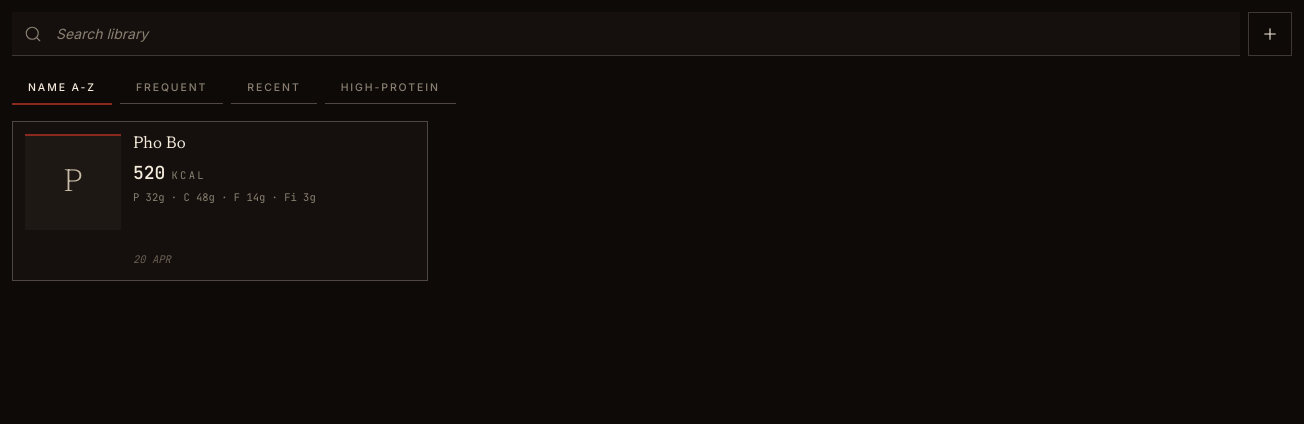
it: F-TASK-4.2-I2-UI-ROUNDTRIP — LibraryTab DOM round-trip from seeded store › clicking a row toggles selection AND mounts the quantity input at default 1
Click the option with test id "library-card-pho-id": point(220, 200) [12,120,428,280]
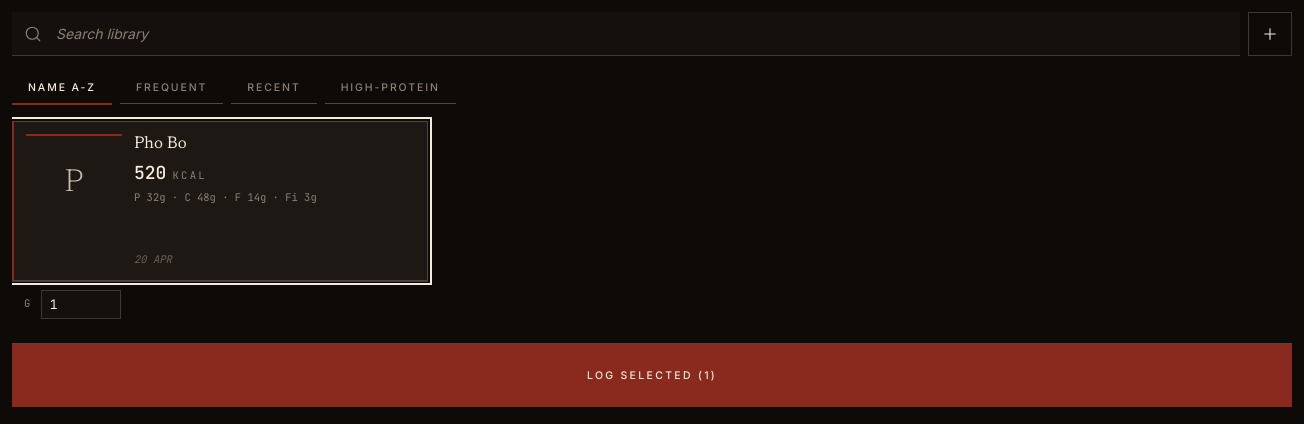
Expected: the number field with test id "library-quantity-pho-id" holds "1", [41,290,121,319]
